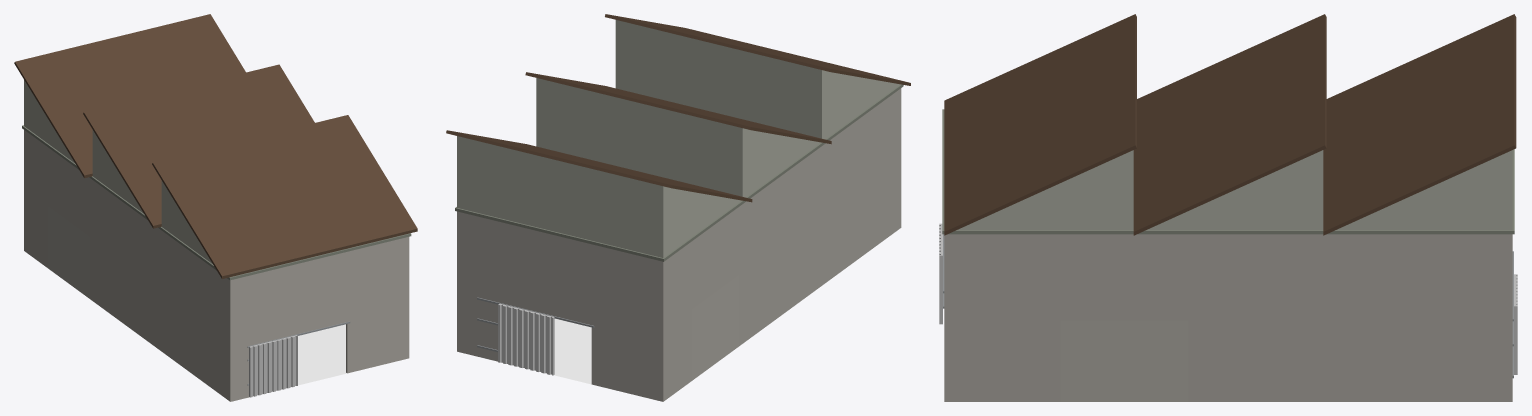
File: factory.obj
3 renders of one model, left to right at view 1: azimuth 30°, elevation 25°; view 2: azimuth 150°, elevation 25°; view 3: azimuth 270°, elevation 25°, orthographic. The views are drawn at different scales.
Parts seen in each view (by area): view 1: Mesh28 Model, Mesh5 dakdeel3 Model, Mesh4 dakdeel2 Model, Mesh3 dakdeel1 Model, Mesh1 stalen_deur1 Model; view 2: Mesh28 Model, Mesh3 dakdeel1 Model, Mesh5 dakdeel3 Model, Mesh4 dakdeel2 Model, Mesh2 stalen_deur2 Model; view 3: Mesh28 Model, Mesh5 dakdeel3 Model, Mesh3 dakdeel1 Model, Mesh4 dakdeel2 Model.
Part boxes in pixels (left/top/right/bottom): Mesh28 Model: left=22, top=125, right=411, bottom=401; Mesh5 dakdeel3 Model: left=152, top=115, right=417, bottom=278; Mesh4 dakdeel2 Model: left=83, top=64, right=314, bottom=228; Mesh3 dakdeel1 Model: left=14, top=14, right=245, bottom=178; Mesh1 stalen_deur1 Model: left=249, top=335, right=297, bottom=397; Mesh28 Model: left=455, top=84, right=903, bottom=401; Mesh3 dakdeel1 Model: left=446, top=130, right=752, bottom=257; Mesh5 dakdeel3 Model: left=605, top=14, right=910, bottom=139; Mesh4 dakdeel2 Model: left=525, top=72, right=831, bottom=197; Mesh2 stalen_deur2 Model: left=498, top=303, right=554, bottom=375; Mesh28 Model: left=942, top=109, right=1514, bottom=401; Mesh5 dakdeel3 Model: left=944, top=14, right=1136, bottom=235; Mesh3 dakdeel1 Model: left=1323, top=14, right=1516, bottom=235; Mesh4 dakdeel2 Model: left=1133, top=14, right=1326, bottom=235.
Size of the model in its own units: 16.4 by 15.27 by 30.53.
